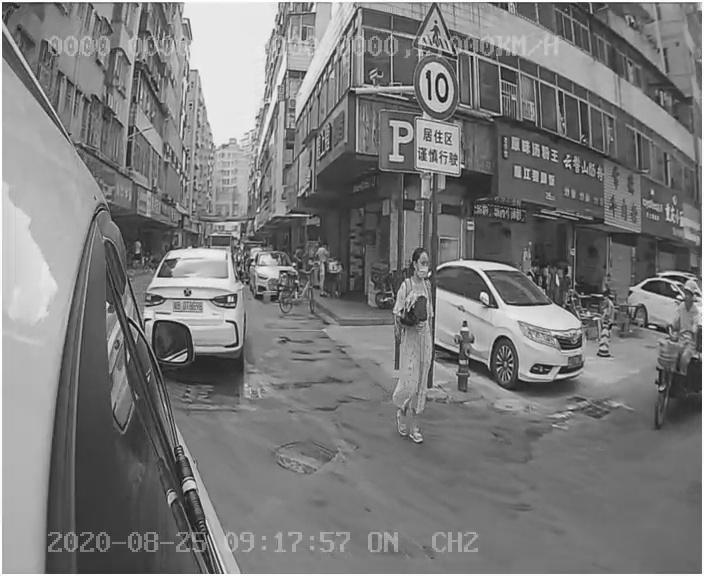person: (377, 250, 453, 447)
